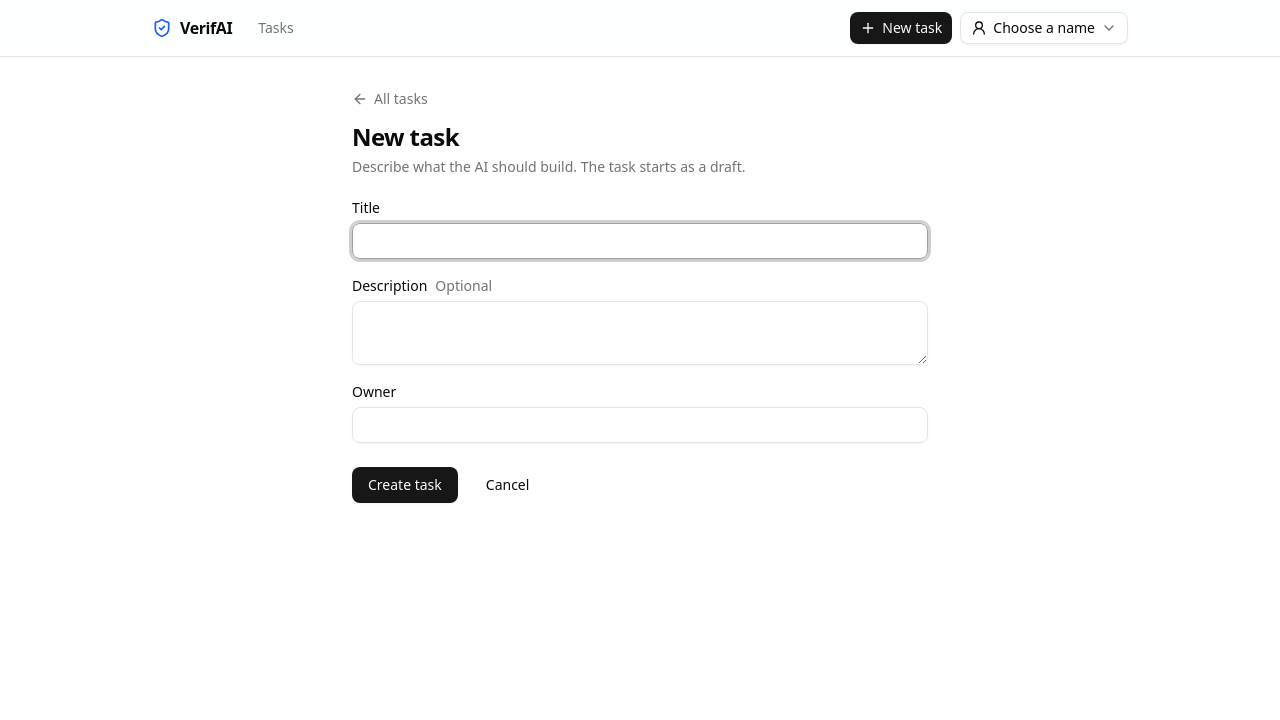
CreateTaskPage › shows the backend message when the request fails
This screenshot has width=1280, height=720.
Expected: the heading "New task" is shown, [352,120,459,153]
Type "Add login page" into the field labelled "Title" at (640, 241), box [352,223,928,259]
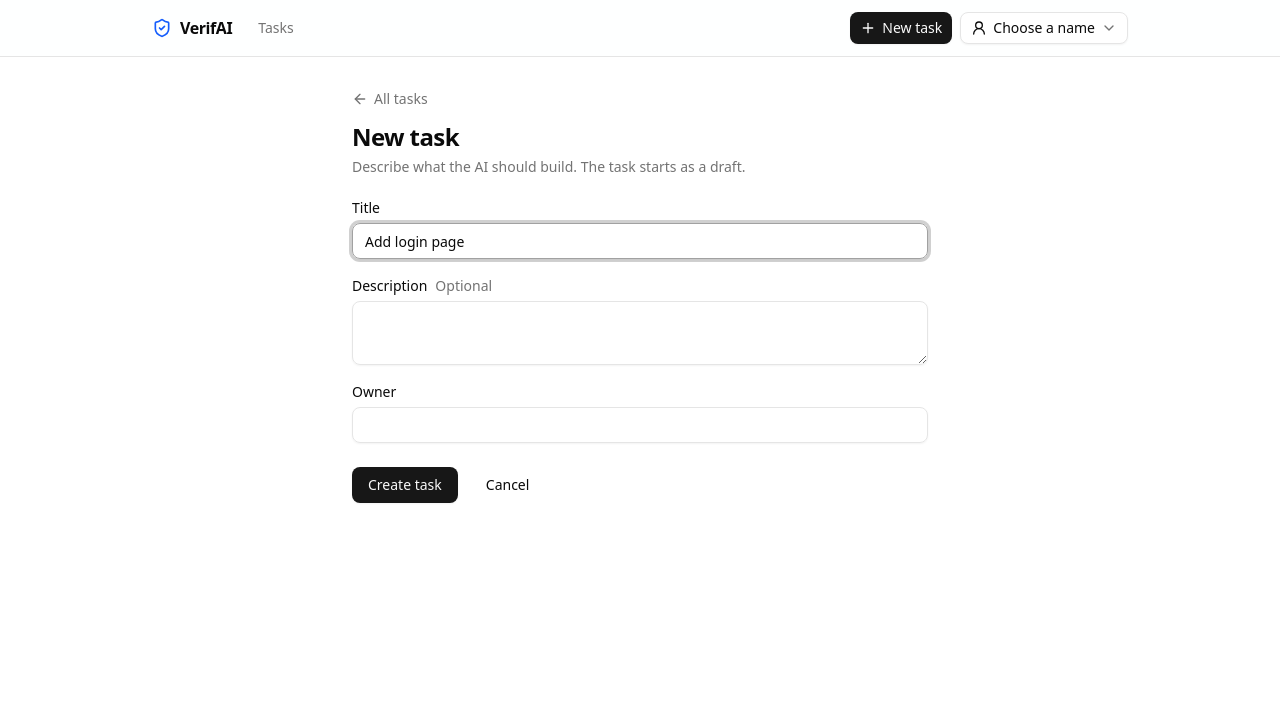
Type "alex" into the field labelled "Owner" at (640, 425), box [352,407,928,443]
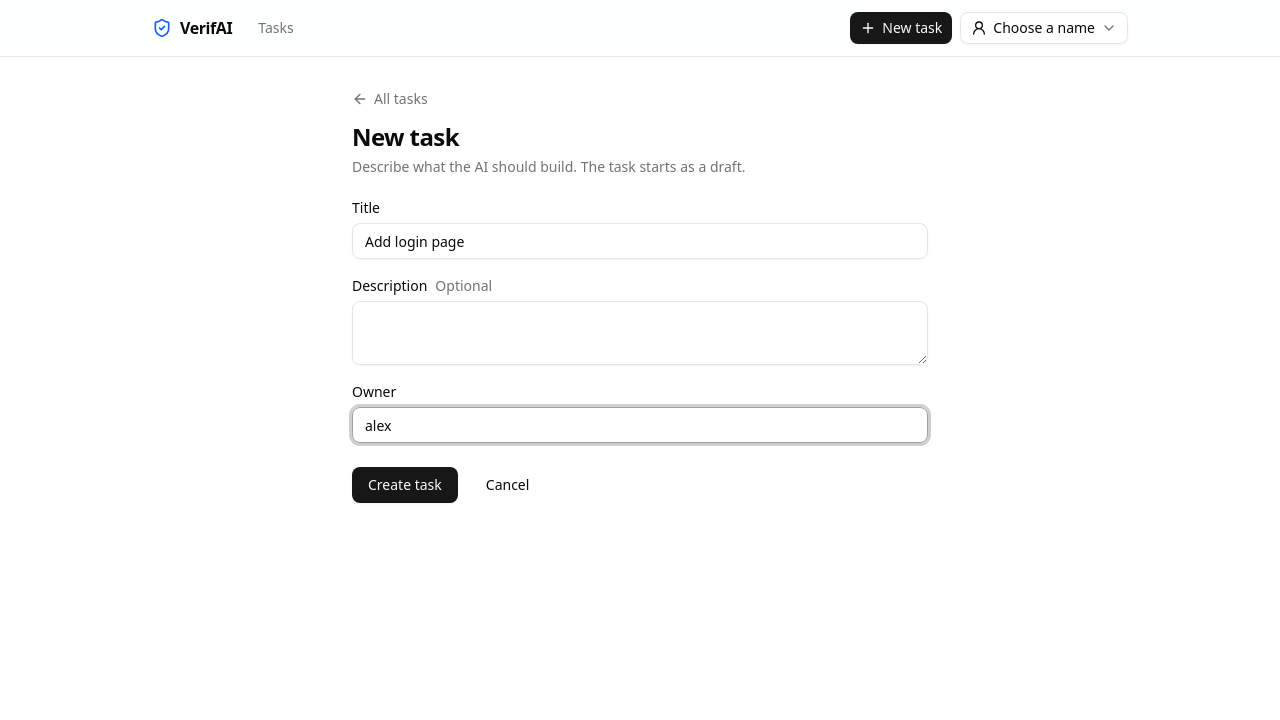
Click the button "Create task" at (405, 485), box [352,467,458,503]
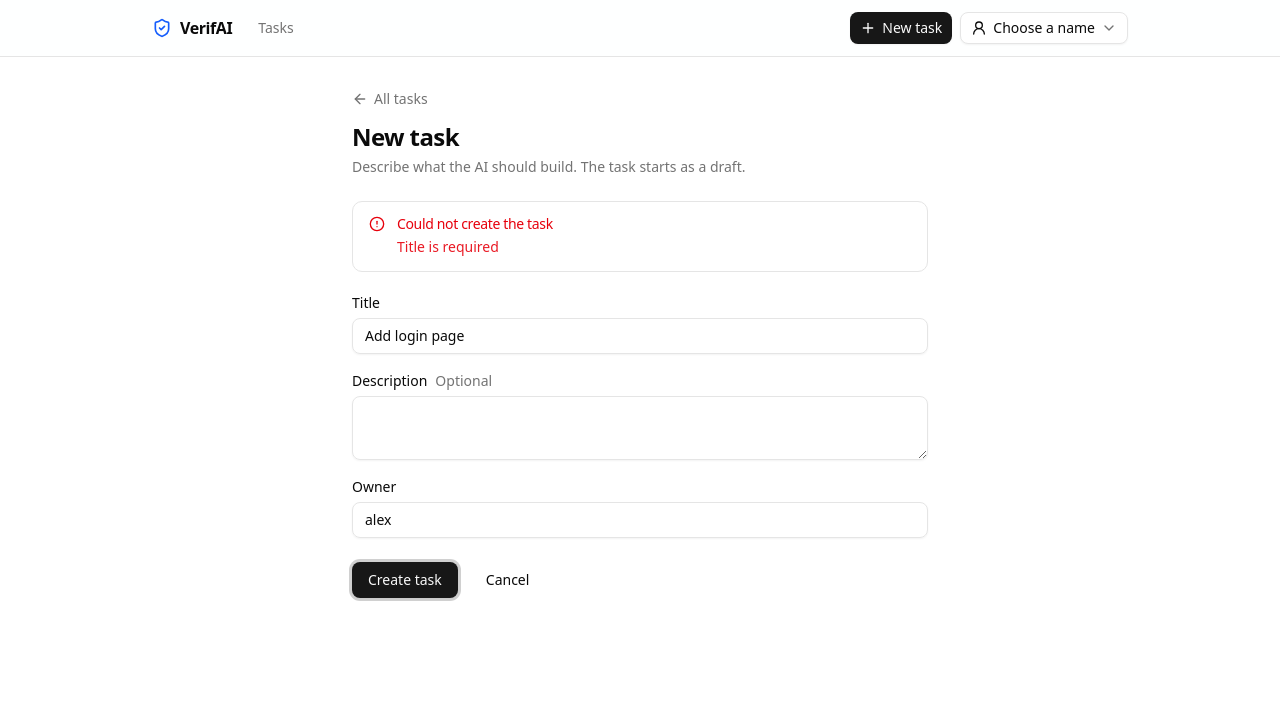
Result: the text "Could not create the task" is shown at [397,214,553,233]
Result: the text "Title is required" is shown at [397,236,499,259]
